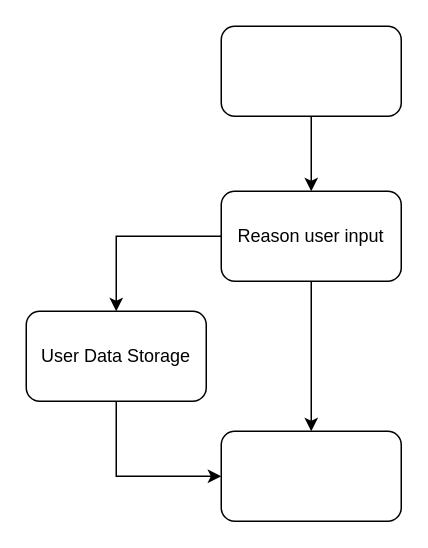
This 428x548 diagram has some shape labels left out. The centre of each missing label's shape, as x and y in pixels:
"Generate and output Creative input" goes at point (310, 475).
"Take user input" goes at point (310, 70).
